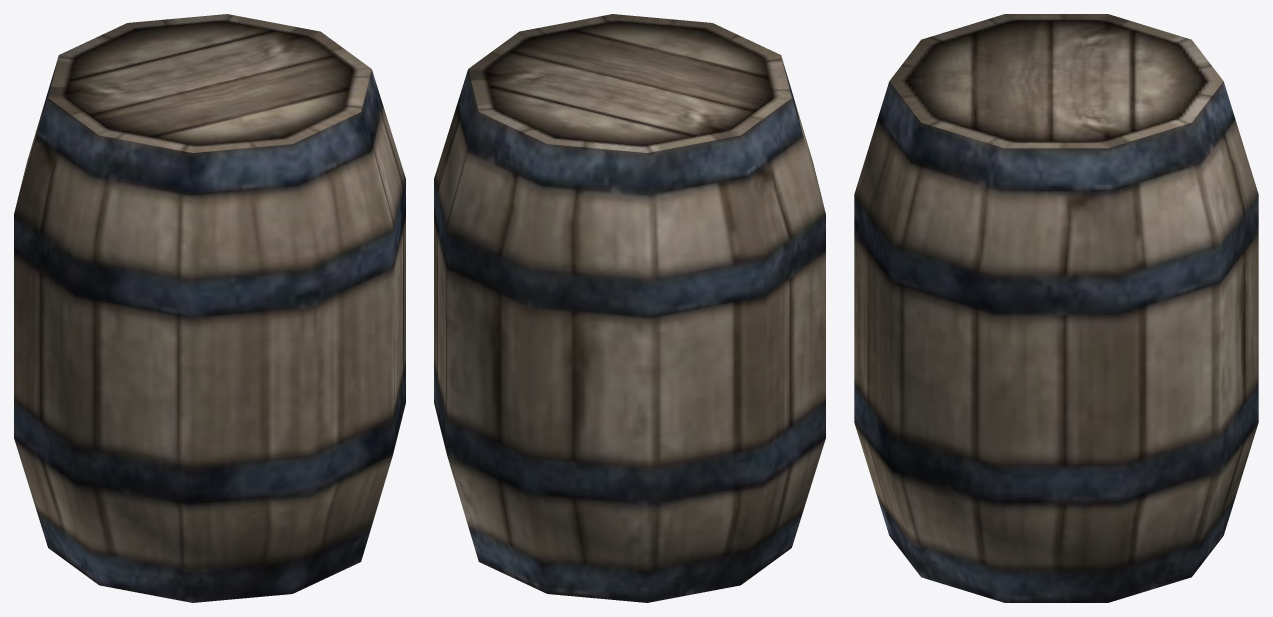
The model's file is Tv_Barrel.glb.
3 views of the same model, side by side, from view 1: azimuth 30°, elevation 25°; view 2: azimuth 150°, elevation 25°; view 3: azimuth 270°, elevation 25° (orthographic).
Parts seen in each view (by area): view 1: barrel; view 2: barrel; view 3: barrel.
Boxes of the visible parts, box(x1,y1,x2,y2) form: barrel: box(14, 14, 405, 602); barrel: box(434, 14, 825, 602); barrel: box(854, 14, 1258, 602).
Size of the model in its own units: 0.6905 by 0.9 by 0.726.
Materials: 1 (1 with a texture image).
